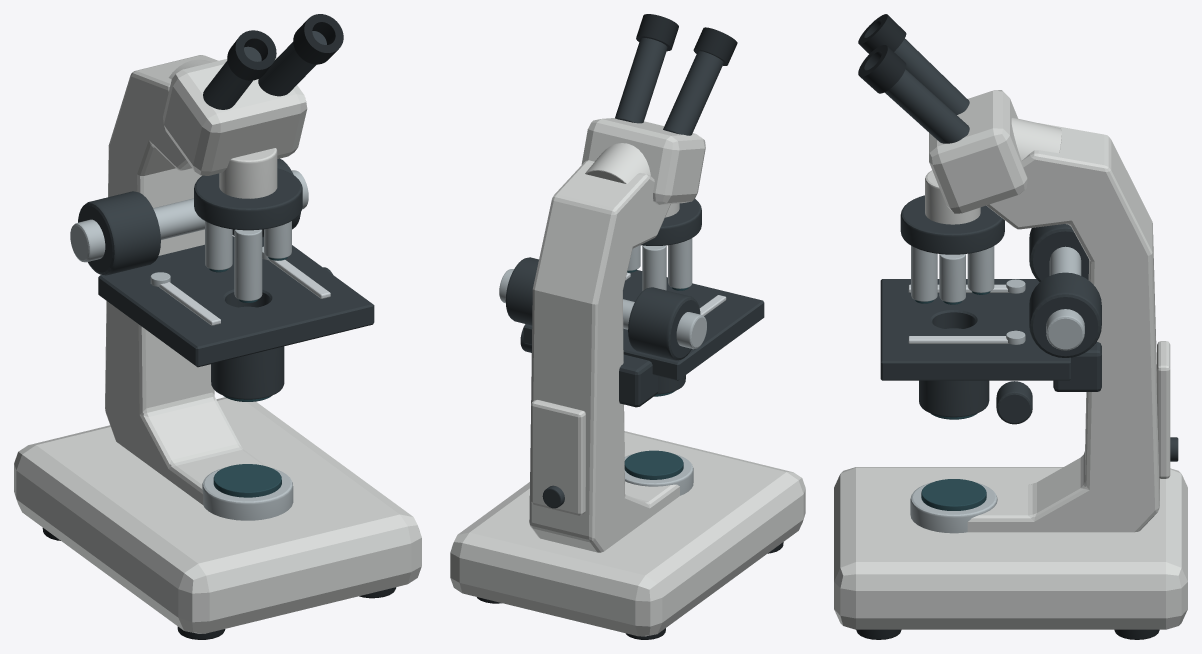
Rendered from city-binocular-lab-microscope.glb.
3 renders of one model, left to right at view 1: azimuth 30°, elevation 25°; view 2: azimuth 150°, elevation 25°; view 3: azimuth 270°, elevation 25°, orthographic. The views are drawn at different scales.
Parts seen in each view (by area): view 1: Assembly | Warm light instrument enclosure, Assembly | Dark instrument trim, Assembly | Satin instrument metal, Assembly | Dark cable and grip rubber, Assembly | Opaque inactive screen or lens, Assembly | Bright connector metal; view 2: Assembly | Warm light instrument enclosure, Assembly | Dark instrument trim, Assembly | Satin instrument metal, Assembly | Dark cable and grip rubber, Assembly | Opaque inactive screen or lens; view 3: Assembly | Warm light instrument enclosure, Assembly | Dark instrument trim, Assembly | Satin instrument metal, Assembly | Dark cable and grip rubber, Assembly | Opaque inactive screen or lens, Assembly | Bright connector metal.
Part boxes in pixels (<box>): Assembly | Warm light instrument enclosure: <box>14,55,421,633</box>; Assembly | Dark instrument trim: <box>78,31,374,399</box>; Assembly | Satin instrument metal: <box>70,170,308,520</box>; Assembly | Dark cable and grip rubber: <box>42,14,396,639</box>; Assembly | Opaque inactive screen or lens: <box>209,257,287,497</box>; Assembly | Bright connector metal: <box>159,259,330,325</box>; Assembly | Warm light instrument enclosure: <box>450,118,805,636</box>; Assembly | Dark instrument trim: <box>505,38,764,508</box>; Assembly | Satin instrument metal: <box>499,238,706,495</box>; Assembly | Dark cable and grip rubber: <box>477,14,783,639</box>; Assembly | Opaque inactive screen or lens: <box>624,269,688,479</box>; Assembly | Warm light instrument enclosure: <box>834,90,1187,629</box>; Assembly | Dark instrument trim: <box>880,38,1178,461</box>; Assembly | Satin instrument metal: <box>910,246,1084,533</box>; Assembly | Dark cable and grip rubber: <box>856,14,1159,639</box>; Assembly | Opaque inactive screen or lens: <box>915,291,990,510</box>; Assembly | Bright connector metal: <box>908,284,1023,343</box>.
Size of the model in its own units: 0.22 by 0.509 by 0.292.
